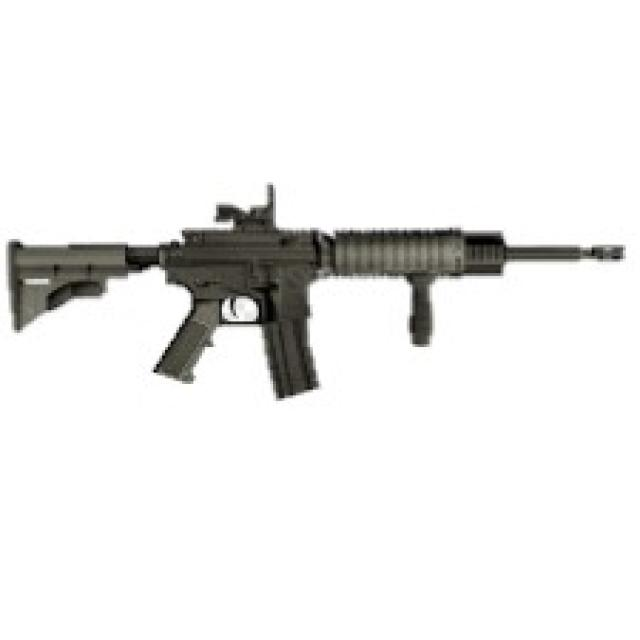rifle: (1, 171, 632, 414)
